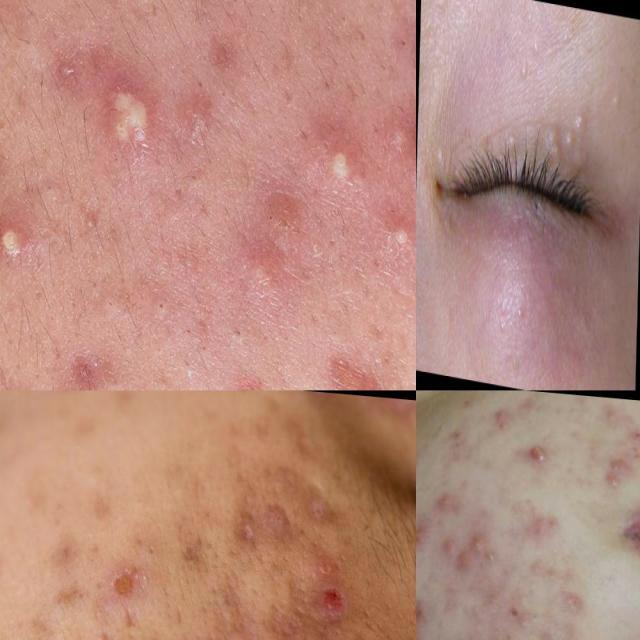Pimples: (95, 64, 162, 181), (312, 324, 399, 391), (302, 124, 377, 196), (510, 18, 554, 100), (138, 260, 184, 330), (379, 204, 416, 274), (0, 198, 28, 290), (202, 66, 248, 121), (216, 298, 252, 354), (558, 102, 595, 154), (518, 434, 560, 476), (426, 118, 454, 178), (532, 112, 564, 162), (604, 68, 632, 119), (499, 115, 522, 161), (416, 586, 433, 636), (572, 143, 590, 190), (608, 444, 632, 479), (448, 551, 475, 578), (416, 521, 434, 548), (468, 534, 487, 557), (484, 548, 498, 567)
